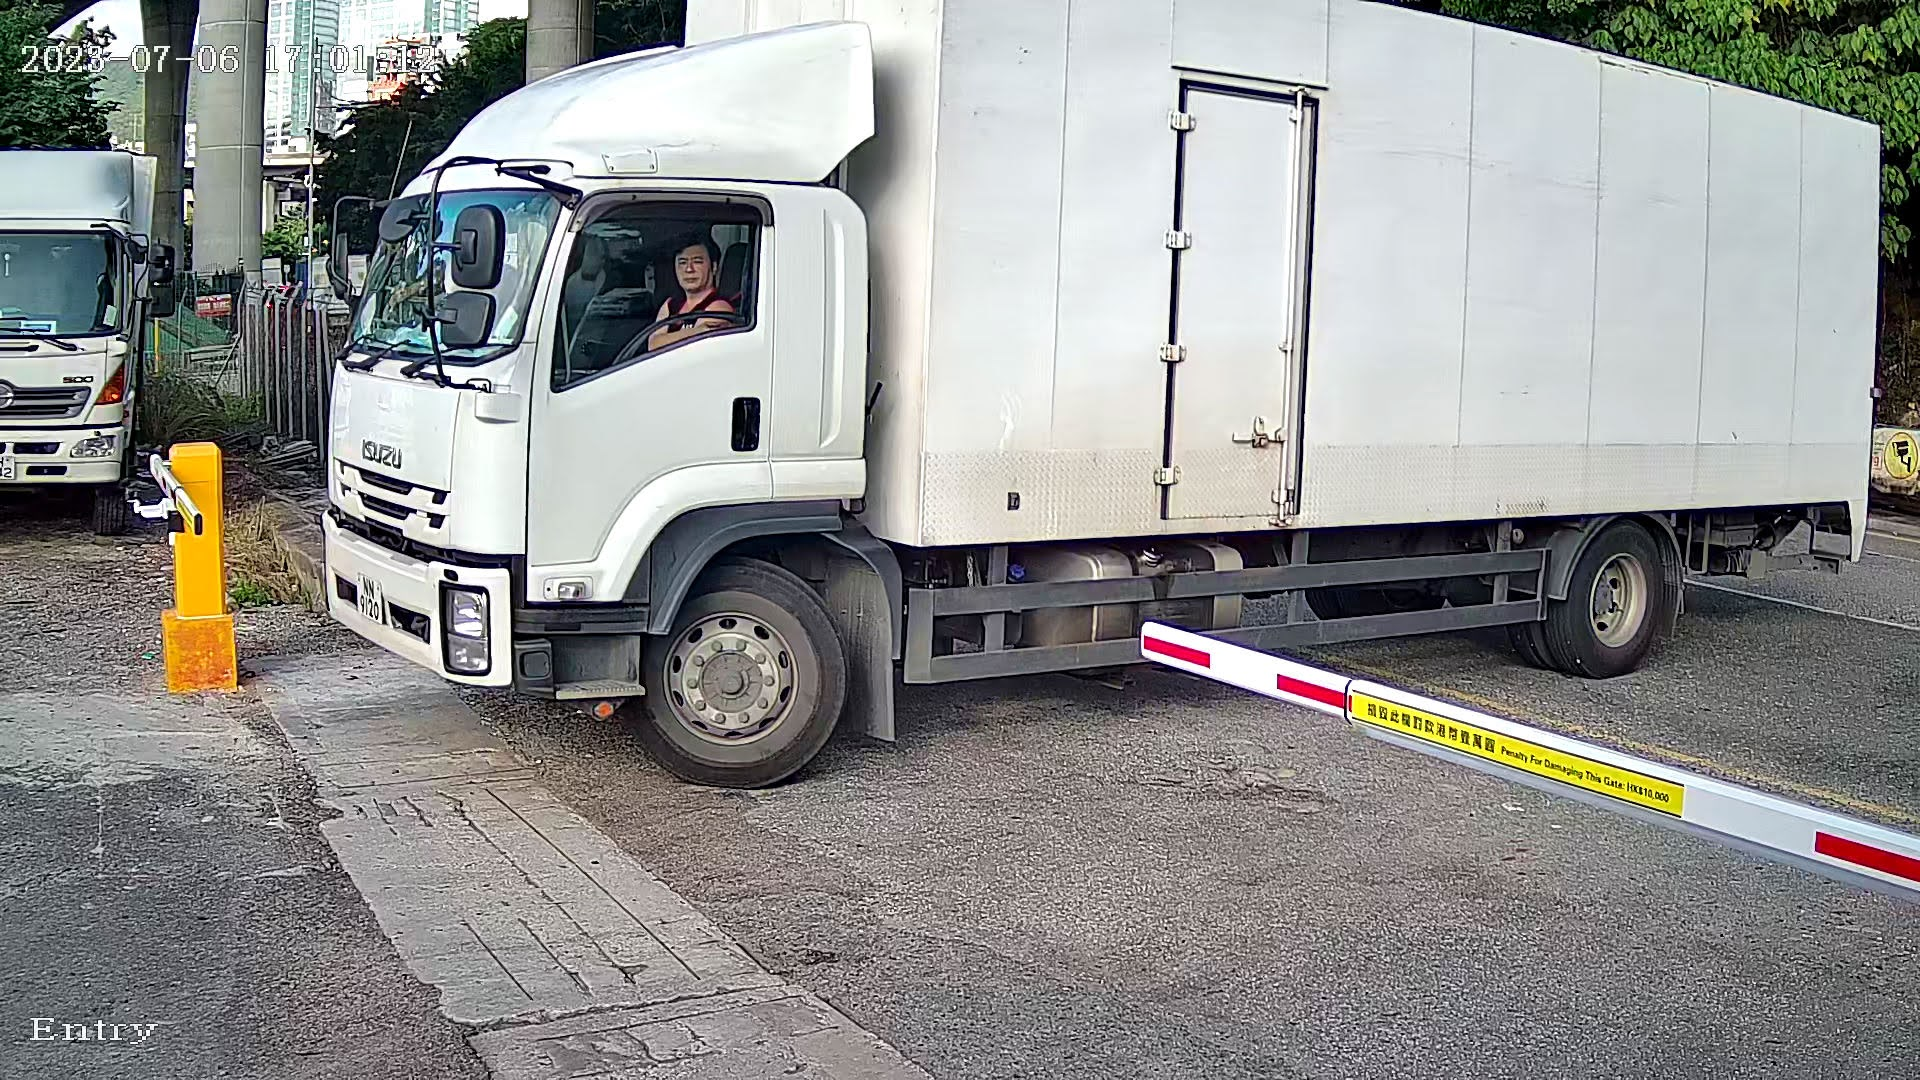truck_large: (278, 1, 1902, 810)
